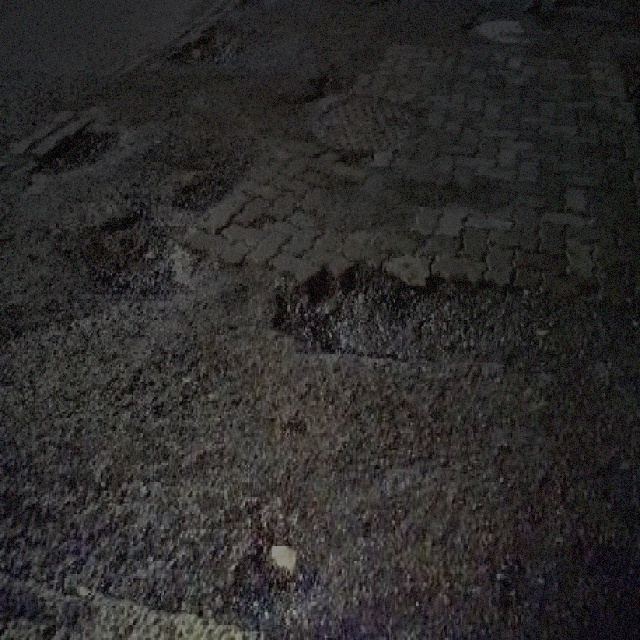pothole: (272, 254, 543, 365), (80, 209, 203, 301), (30, 124, 120, 175), (167, 15, 249, 70), (464, 6, 530, 47), (175, 169, 234, 211)
